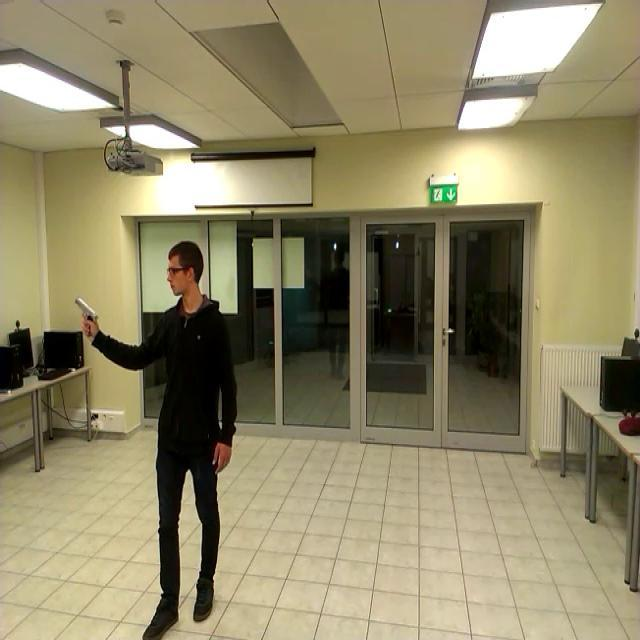Gun: (67, 294, 105, 338)
